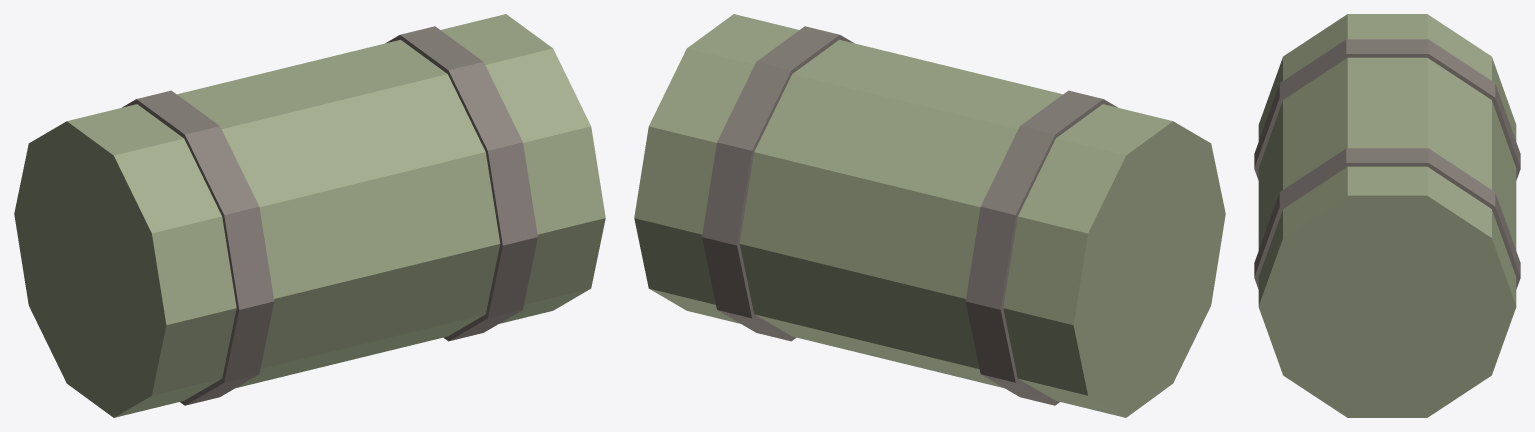
The model's file is SM_SleepingBag_Rolled.fbx.
3 views of the same model, side by side, from view 1: azimuth 30°, elevation 25°; view 2: azimuth 150°, elevation 25°; view 3: azimuth 270°, elevation 25° (orthographic). The views are drawn at different scales.
Parts seen in each view (by area): view 1: SM_SleepingBag_Rolled; view 2: SM_SleepingBag_Rolled; view 3: SM_SleepingBag_Rolled.
Boxes of the visible parts, left/top/right/bottom form: SM_SleepingBag_Rolled: left=14, top=14, right=605, bottom=417; SM_SleepingBag_Rolled: left=634, top=14, right=1225, bottom=417; SM_SleepingBag_Rolled: left=1254, top=14, right=1520, bottom=417.
Size of the model in its own units: 0.5 by 0.2948 by 0.31.
